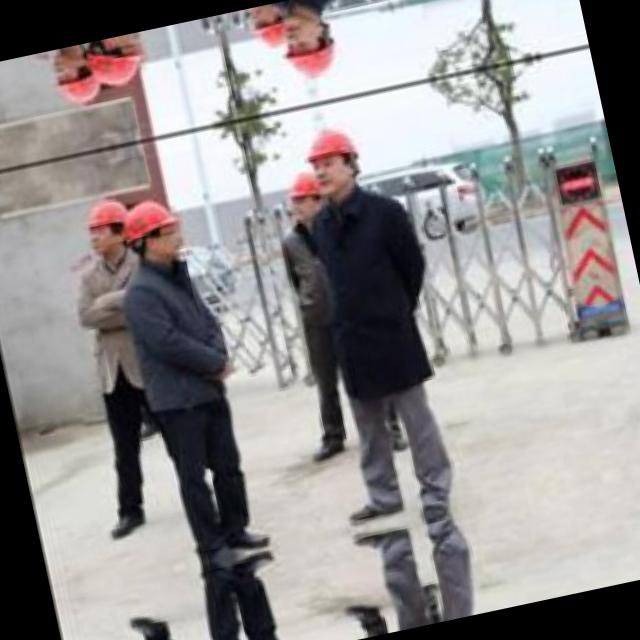helmet: (296, 114, 372, 202), (115, 188, 192, 274), (272, 0, 347, 88), (80, 30, 154, 94), (44, 42, 104, 115), (75, 188, 134, 260), (278, 158, 331, 228), (244, 1, 296, 62)
